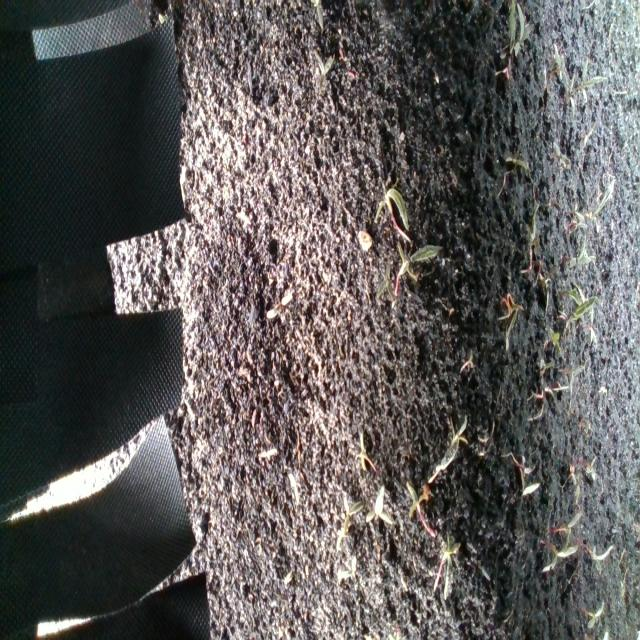weed: (498, 294, 527, 352)
